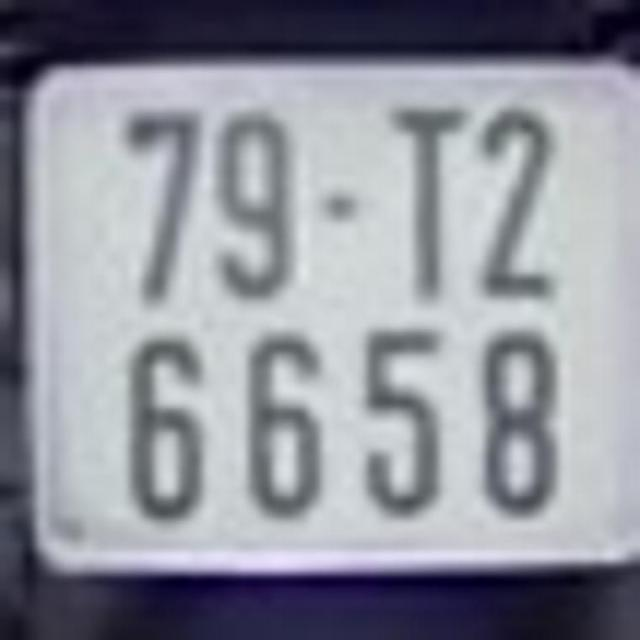2: (475, 104, 557, 306)
5: (362, 322, 449, 524)
6: (246, 323, 326, 520), (129, 330, 210, 520)
7: (122, 108, 194, 310)
8: (480, 336, 561, 519)
9: (213, 125, 286, 298)
T: (391, 108, 465, 302)
